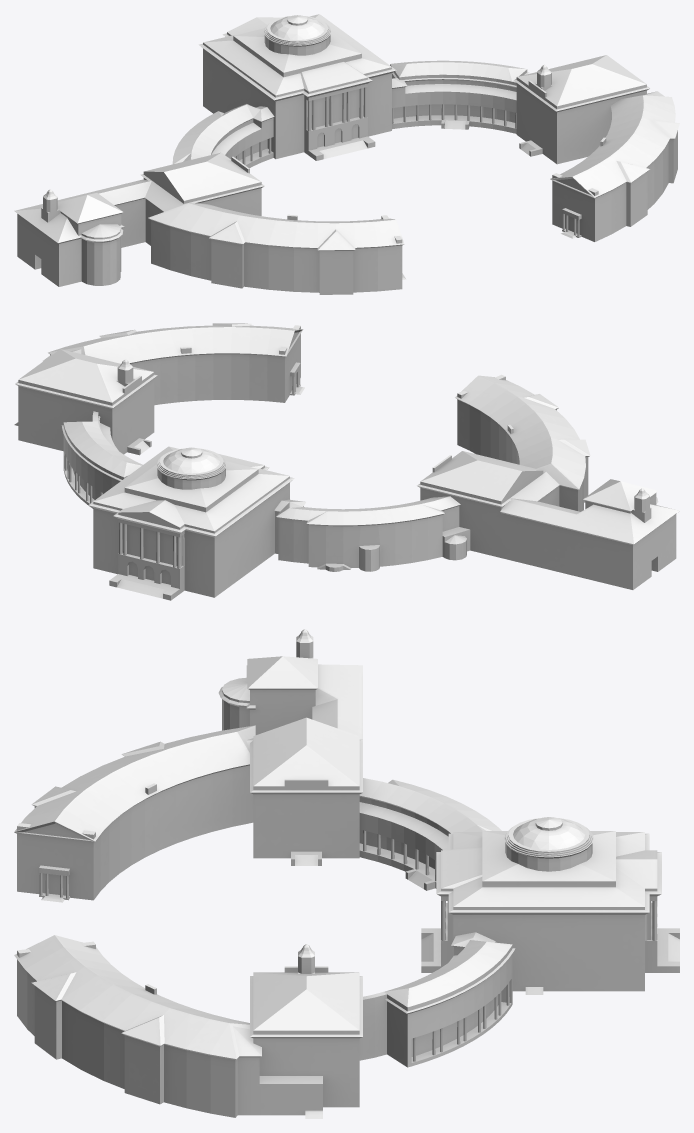
Rendered from pavlovpalace.dae.
3 views of the same model, one above another, from view 1: azimuth 30°, elevation 25°; view 2: azimuth 150°, elevation 25°; view 3: azimuth 270°, elevation 25° (orthographic). The views are drawn at different scales.
Visible parts, largest first — view 1: pavlovpalace1, pavlovpalace2, pavlovpalace3; view 2: pavlovpalace1, pavlovpalace2, pavlovpalace3; view 3: pavlovpalace1, pavlovpalace2, pavlovpalace3.
Boxes of the visible parts, x1,y1,x2,y2 form: pavlovpalace1: [198, 14, 679, 241]; pavlovpalace2: [14, 104, 274, 286]; pavlovpalace3: [148, 203, 405, 294]; pavlovpalace1: [14, 323, 304, 600]; pavlovpalace2: [274, 451, 679, 589]; pavlovpalace3: [455, 374, 590, 511]; pavlovpalace1: [14, 817, 679, 1118]; pavlovpalace2: [218, 629, 501, 890]; pavlovpalace3: [14, 725, 255, 902].
Size of the model in its own units: 0.2849 by 0.2035 by 0.0452.
1 material, 1 textured.
